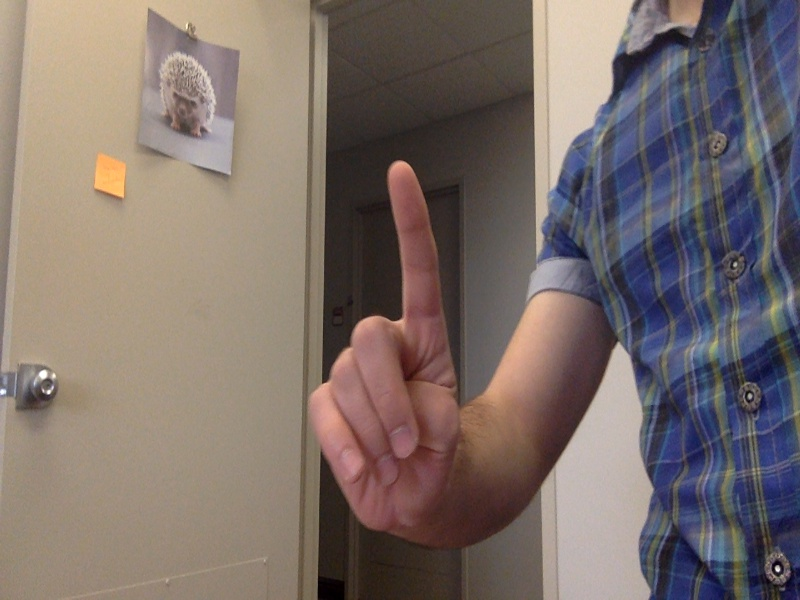1-hand: (301, 162, 463, 535)
